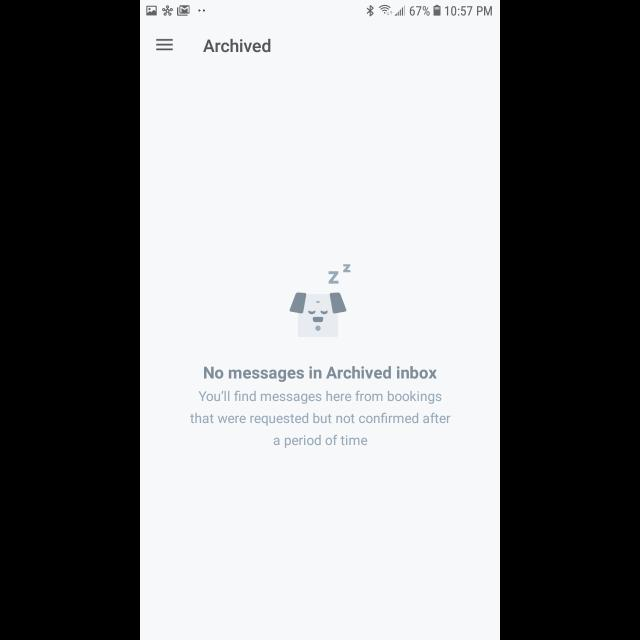icon: (156, 38, 174, 52)
image: (290, 264, 350, 338)
text: (190, 391, 450, 449), (204, 366, 436, 382), (203, 39, 271, 53)
uppertaskbar: (140, 1, 500, 22)
